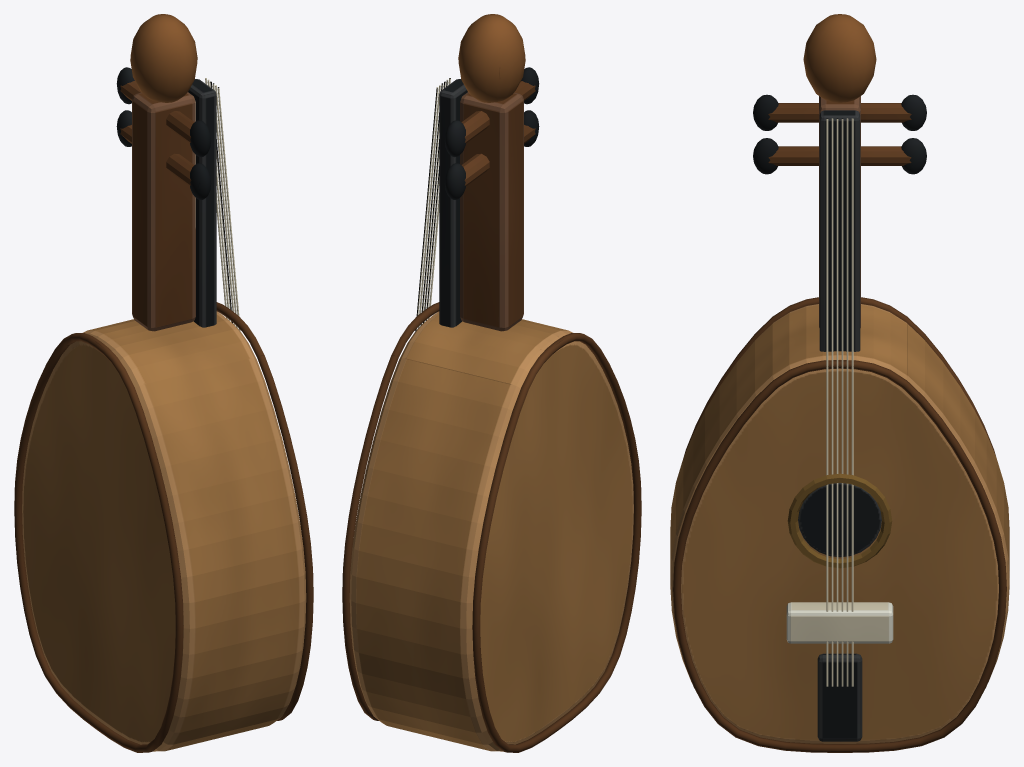
Rendered from 19_Wall_Lute.fbx.
3 renders of one model, left to right at view 1: azimuth 30°, elevation 25°; view 2: azimuth 150°, elevation 25°; view 3: azimuth 270°, elevation 25°, orthographic.
Parts seen in each view (by area): view 1: 19_Wall_Lute; view 2: 19_Wall_Lute; view 3: 19_Wall_Lute.
Boxes of the visible parts, x1,y1,x2,y2 form: 19_Wall_Lute: (14,14,313,752); 19_Wall_Lute: (342,14,641,752); 19_Wall_Lute: (670,14,1009,752).
Bounding box in the file's own units: 34.08 × 138 × 60.45.
1 material, 1 textured.
